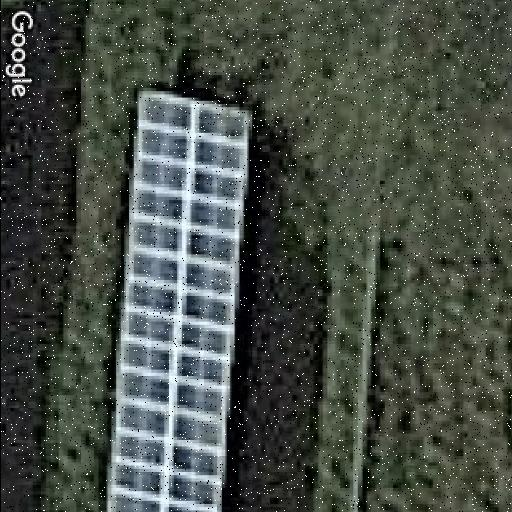solar-panel: (104, 86, 254, 512)
